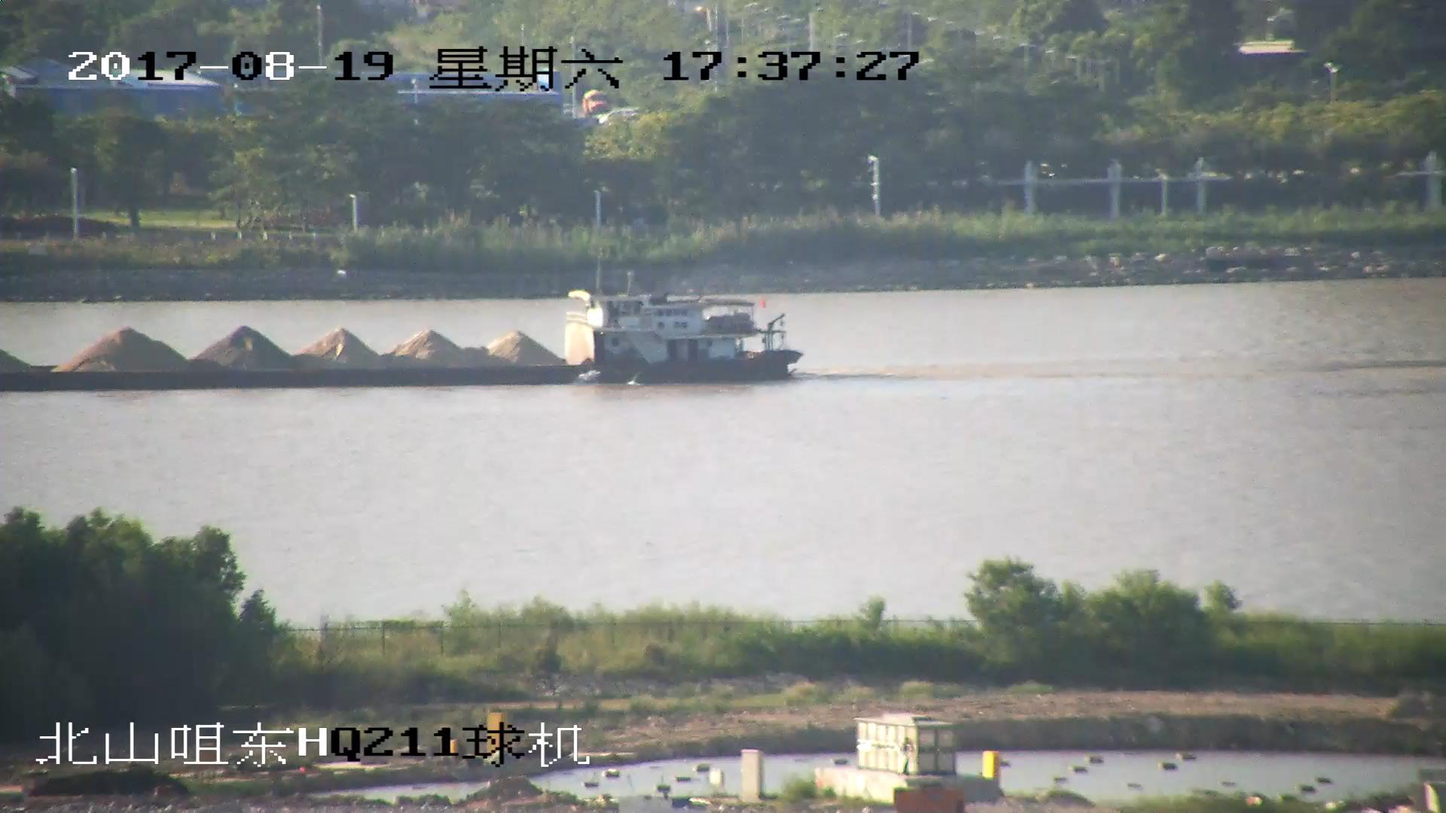ore carrier: (0, 268, 798, 391)
